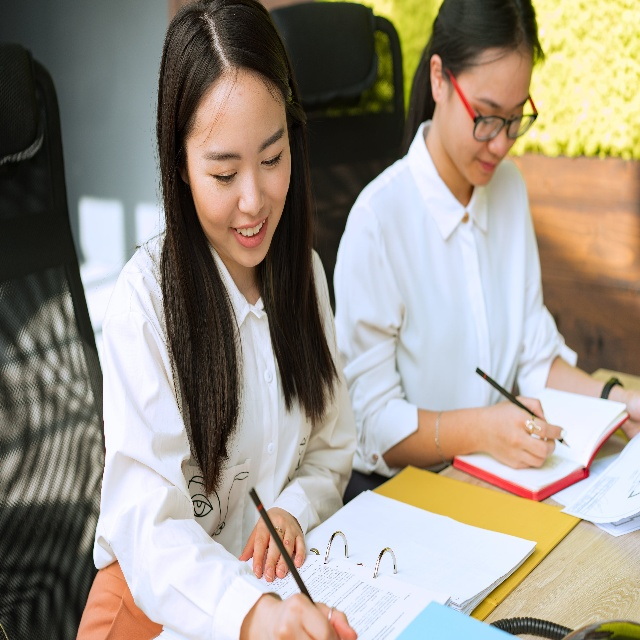Gafas: (472, 104, 539, 141)
Sin_guantes: (484, 395, 564, 470), (237, 509, 308, 579), (251, 599, 360, 640)
